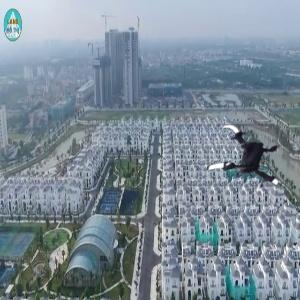drone: (206, 116, 296, 206)
